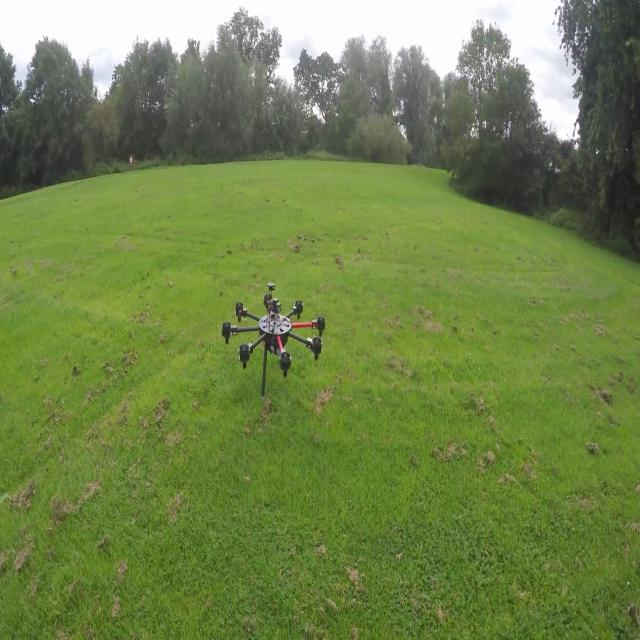drone: (224, 262, 338, 393)
